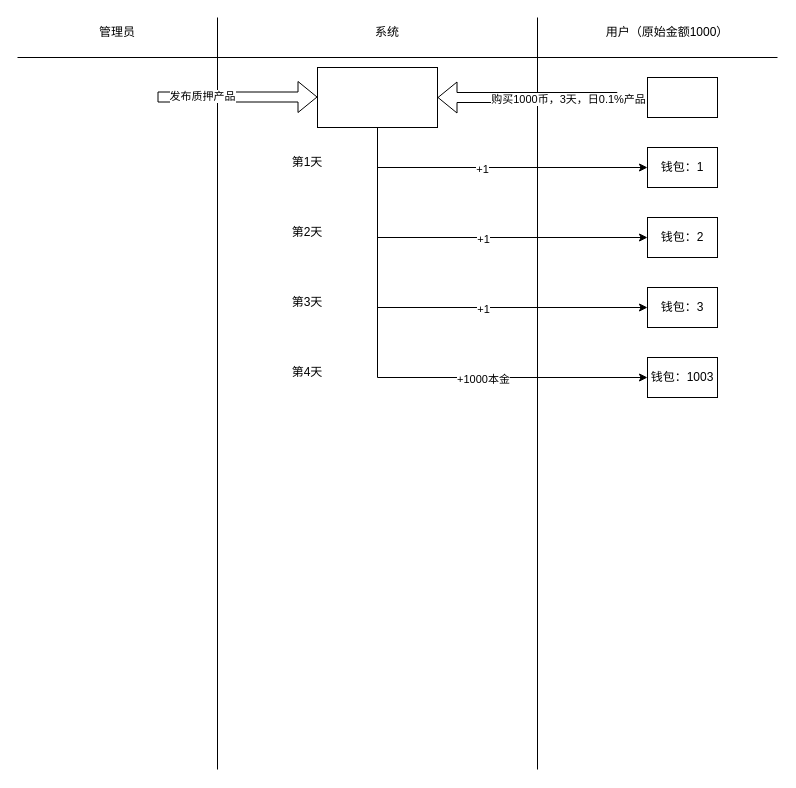
Some shapes in this 796 by 788 pixel diagram are drawn without their labels. The shapes that lost their labels are listed below. From the top down, each one's centre as x and y in pixels, then its label:
At [377,97]: "质押产品 周期 收益率".
At [682,97]: "钱包：0".
